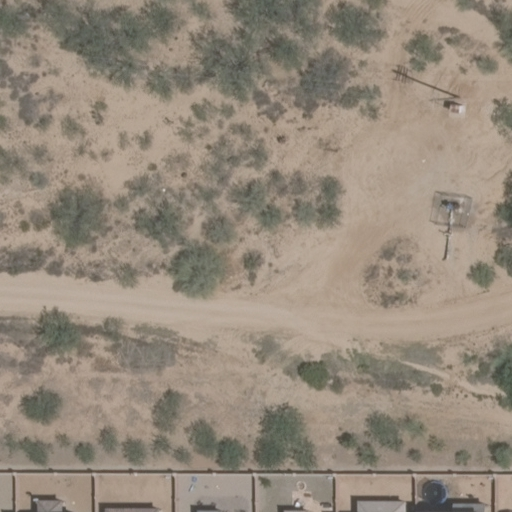DT: (395, 67, 462, 100)
